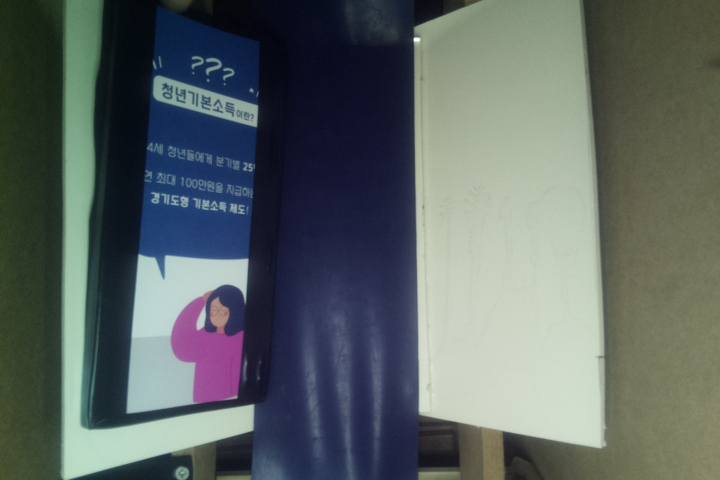book: (81, 1, 279, 431)
